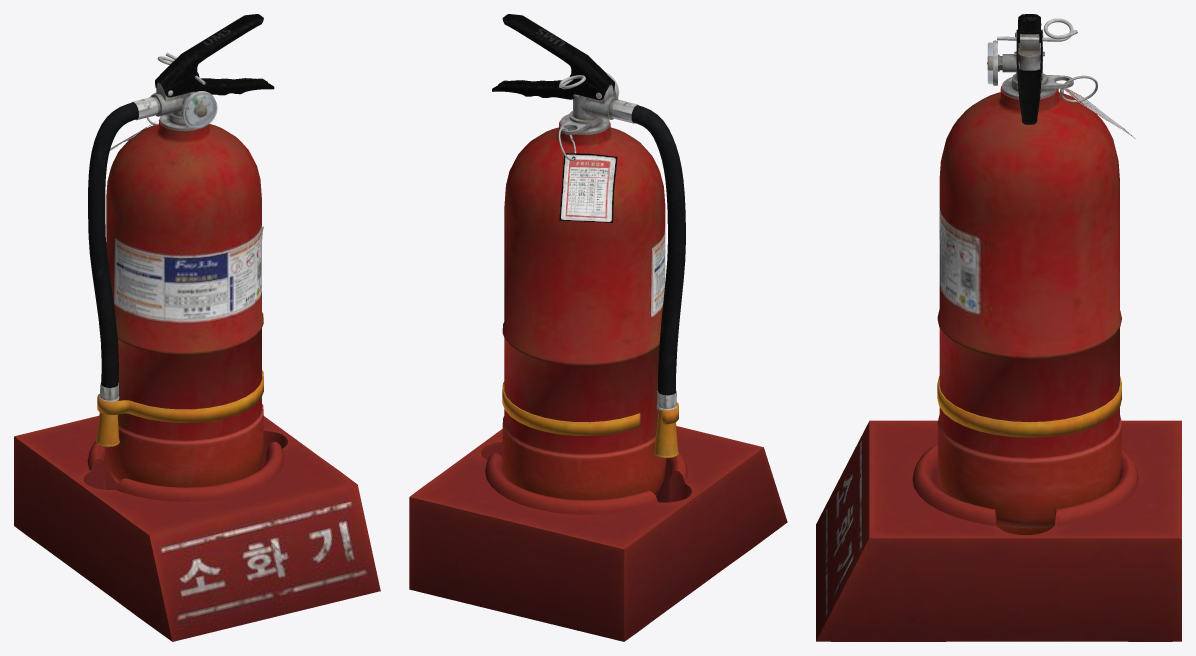
File: korean_fire_extinguisher_01.glb
The picture shows the model from 3 angles, left to right: view 1: azimuth 30°, elevation 25°; view 2: azimuth 150°, elevation 25°; view 3: azimuth 270°, elevation 25°; orthographic projection. The views are drawn at different scales.
Parts seen in each view (by area): view 1: korean_fire_extinguisher_01; view 2: korean_fire_extinguisher_01; view 3: korean_fire_extinguisher_01.
Boxes of the visible parts, left/top/right/bottom form: korean_fire_extinguisher_01: left=14, top=14, right=380, bottom=641; korean_fire_extinguisher_01: left=409, top=14, right=787, bottom=641; korean_fire_extinguisher_01: left=816, top=14, right=1181, bottom=641.
Bounding box in the file's own units: 0.2799 × 0.6593 × 0.3674.
Materials: 3 (3 with a texture image).
